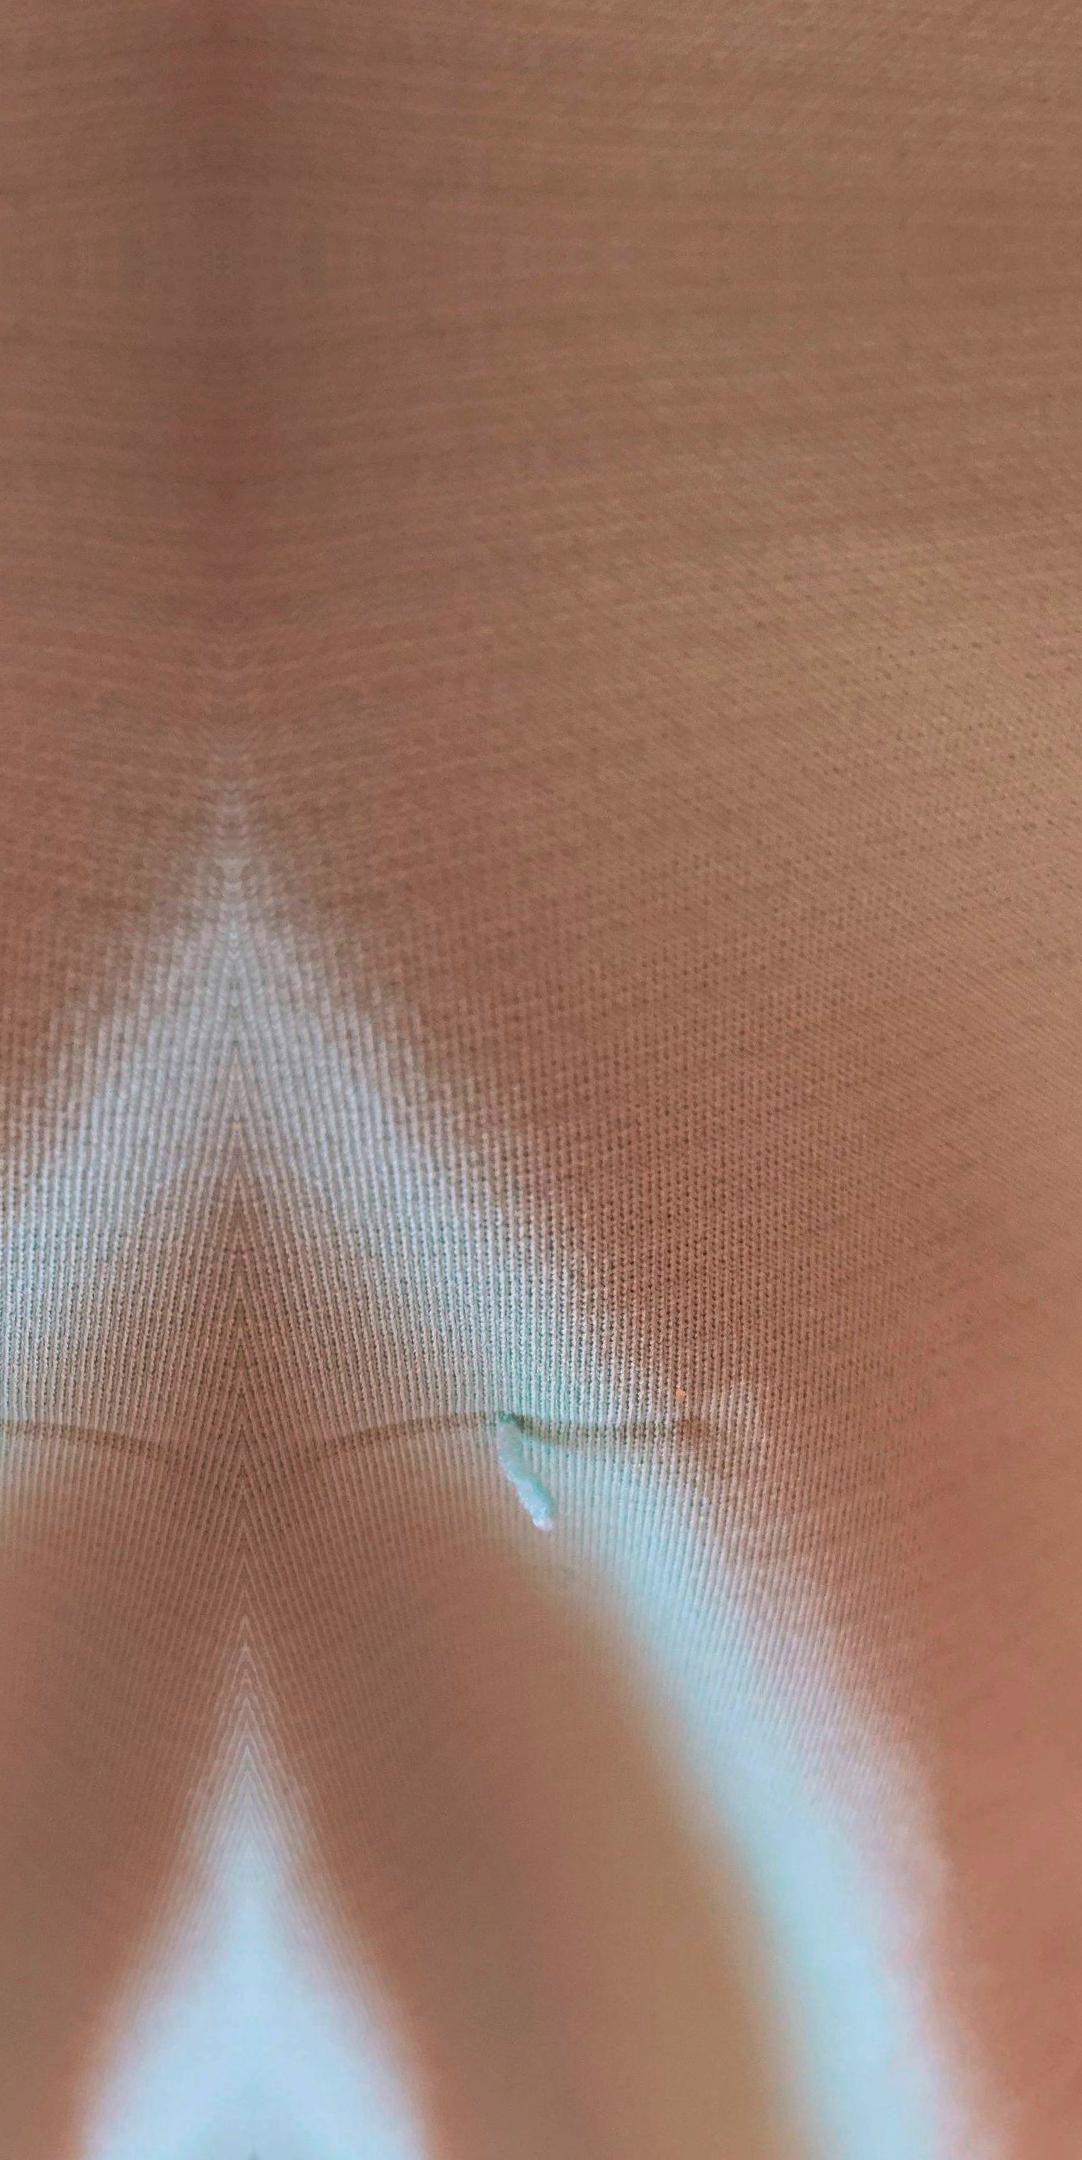snag: (417, 1366, 627, 1567)
